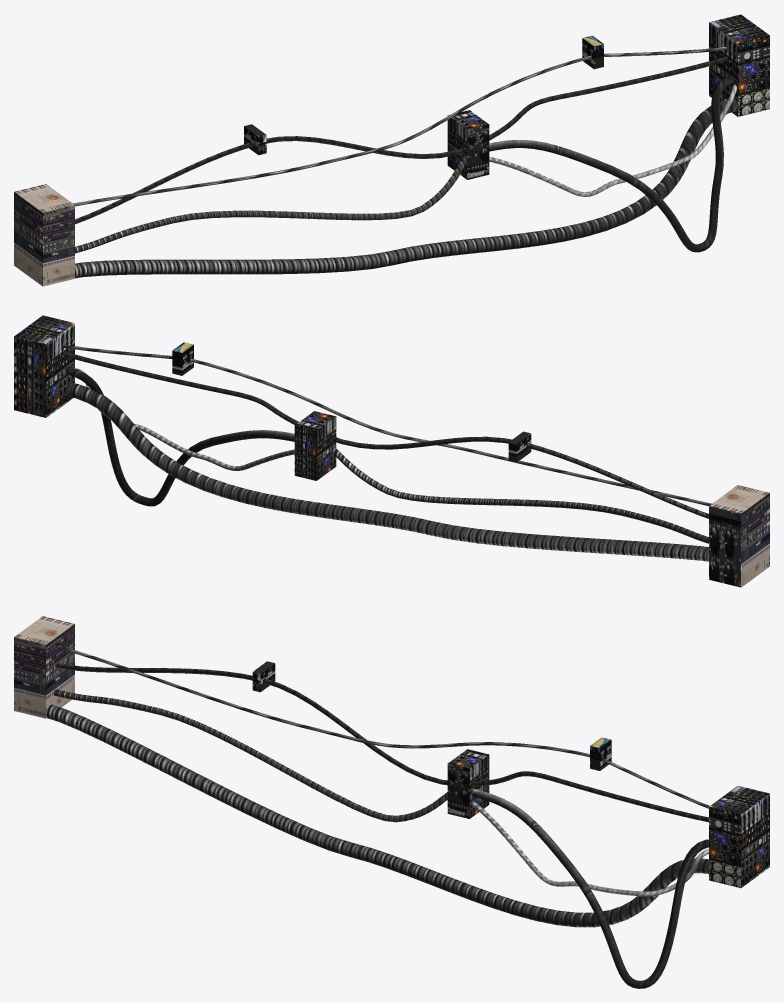
File: kable1.fbx
The picture shows the model from 3 angles, top to bottom: view 1: azimuth 30°, elevation 25°; view 2: azimuth 150°, elevation 25°; view 3: azimuth 330°, elevation 25°; orthographic projection.
Visible parts, largest first — view 1: Cube; view 2: Cube; view 3: Cube.
Part boxes in pixels (left/top/right/bottom): Cube: left=14, top=14, right=769, bottom=286; Cube: left=14, top=315, right=769, bottom=587; Cube: left=14, top=616, right=769, bottom=988.
Bounding box in the file's own units: 1018 × 270 × 118.
1 material, 1 textured.
